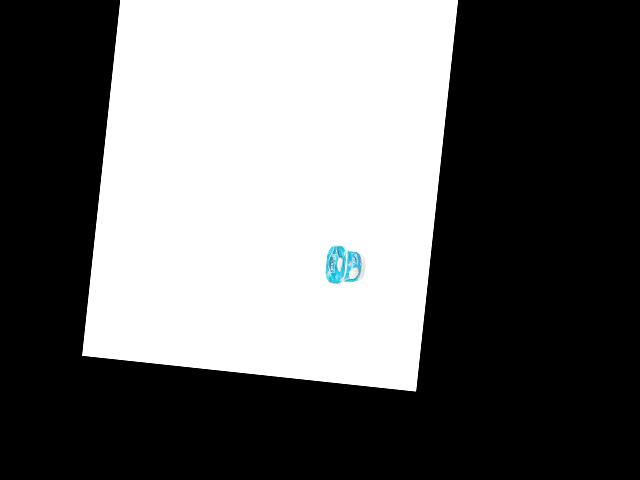cotage: (322, 242, 367, 289)
